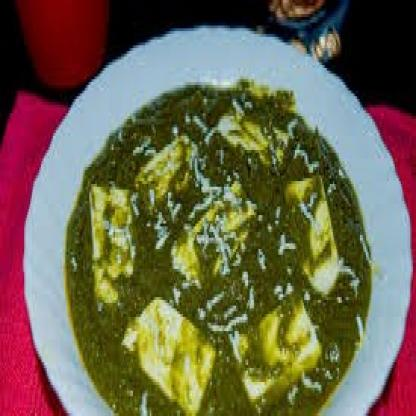palak_paneer: (64, 79, 372, 416)
